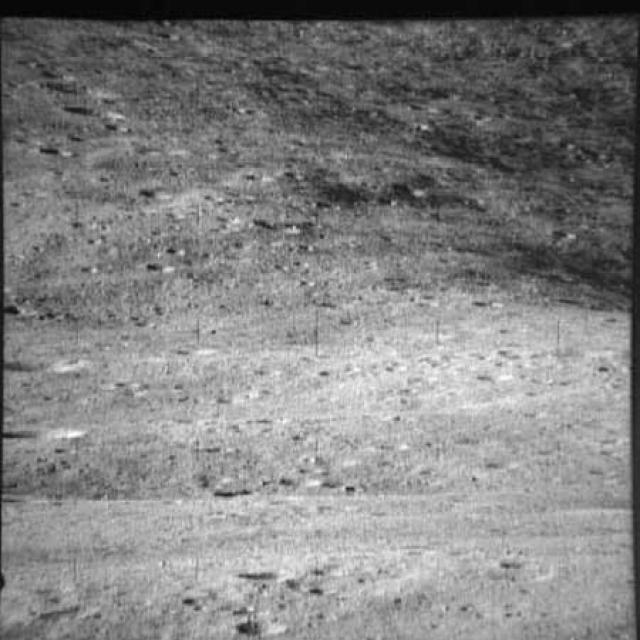crater: (0, 412, 104, 452), (2, 346, 94, 387), (252, 208, 300, 248), (54, 99, 128, 123), (224, 564, 289, 588), (228, 611, 288, 637), (3, 295, 42, 324), (30, 141, 74, 165), (136, 184, 176, 210), (141, 259, 174, 279)
